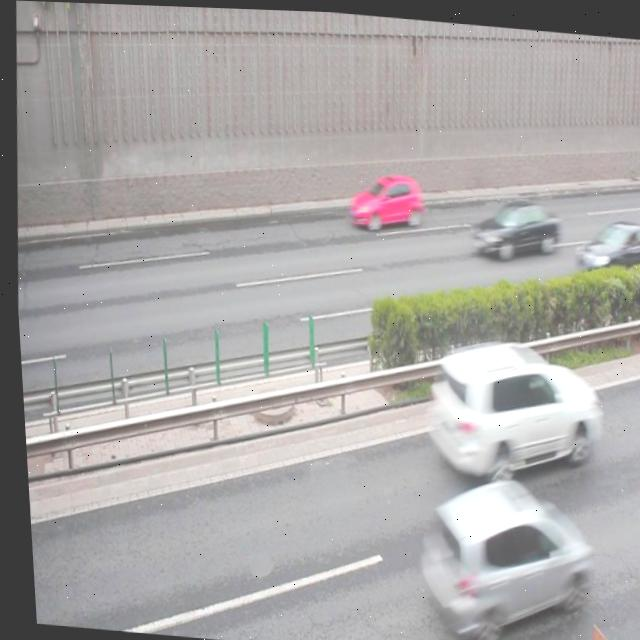car: (401, 463, 587, 640), (416, 330, 600, 484), (463, 189, 559, 261), (566, 209, 640, 283), (345, 166, 421, 230)
